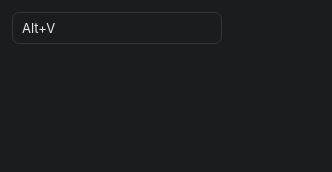
it: HotkeyRecorder › cancels with Escape without committing
The width and height of the screenshot is (332, 172).
Click the button "Alt+V" at [117, 28], box 12,12 -> 222,44
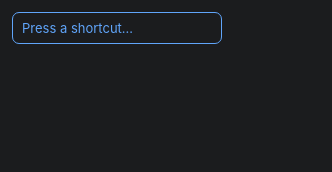
Press Escape in the button named "Alt+V", box 12,12 -> 222,44
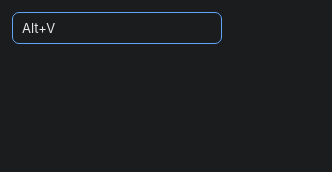
expect the button "Alt+V" is shown: met, box 12,12 -> 222,44
